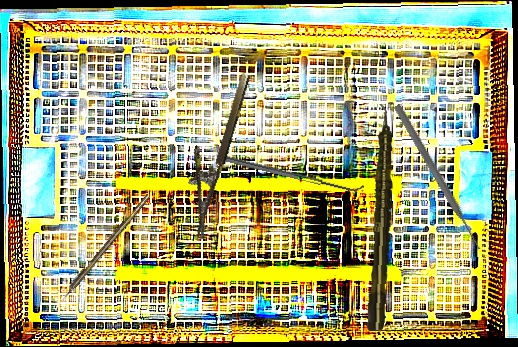Handpiece: (365, 103, 398, 332)
Hook Surgical: (55, 193, 152, 306)
Needle Holder: (169, 65, 253, 241)
Pusher: (391, 102, 485, 253)
Spatula Surgical: (216, 148, 365, 196)
